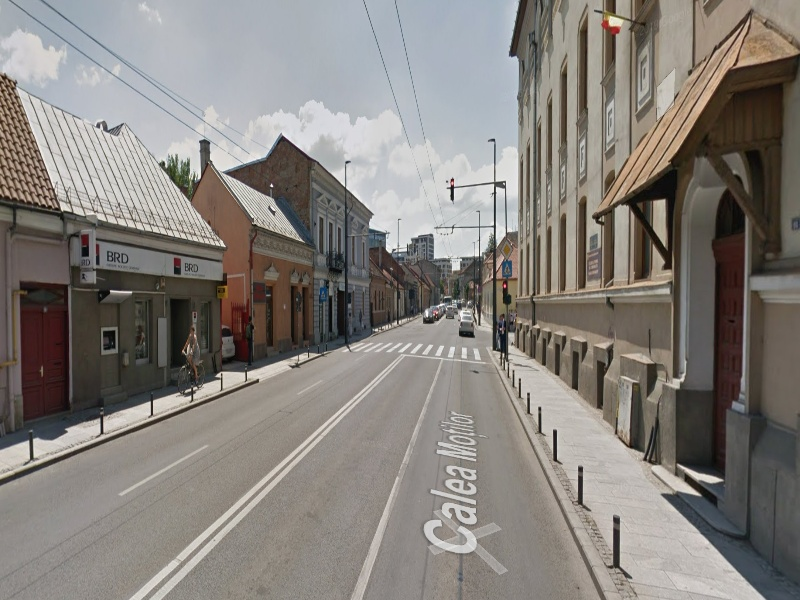crosswalk: (338, 341, 493, 364)
crosswalk_sign: (501, 259, 512, 280)
pedestrian: (176, 325, 211, 391)
semaphore: (445, 175, 461, 205), (500, 279, 512, 310)
